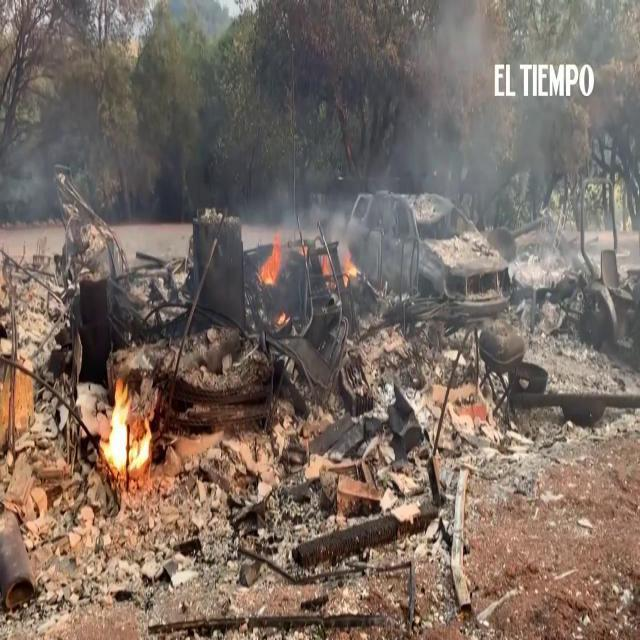Fire: (104, 380, 154, 476), (256, 231, 280, 283), (344, 258, 356, 284), (276, 311, 288, 325)
